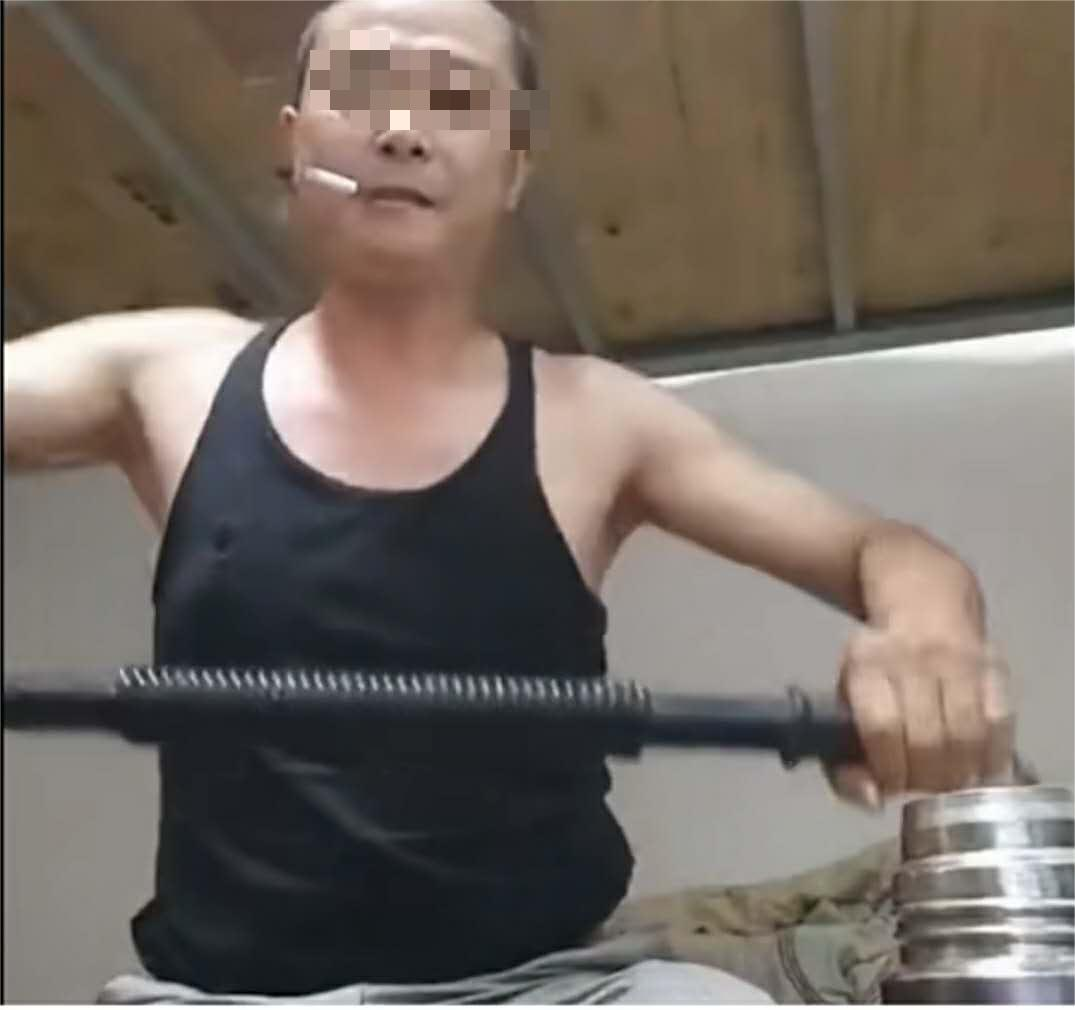smoke: (296, 166, 360, 199)
